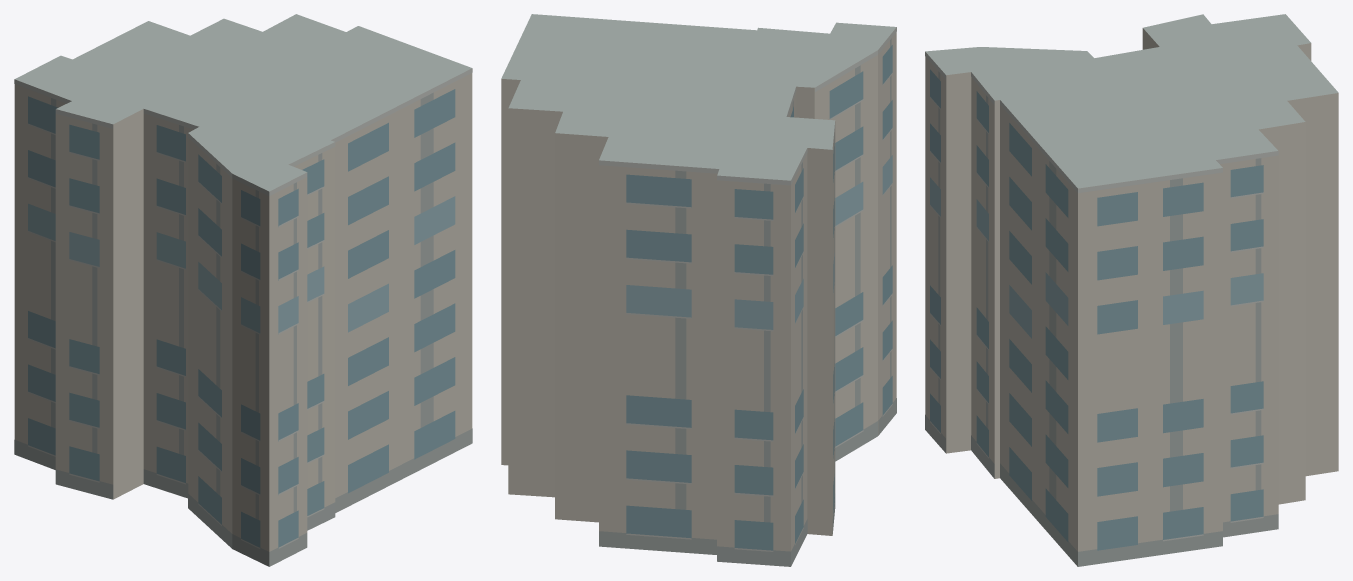
The model's file is survey-upis-32641188.glb.
The picture shows the model from 3 angles, left to right: view 1: azimuth 30°, elevation 25°; view 2: azimuth 150°, elevation 25°; view 3: azimuth 270°, elevation 25°; orthographic projection. The views are drawn at different scales.
Visible parts, largest first — view 1: survey-upis-32641188.tmp; view 2: survey-upis-32641188.tmp; view 3: survey-upis-32641188.tmp.
Boxes of the visible parts, left/top/right/bottom form: survey-upis-32641188.tmp: left=14, top=14, right=472, bottom=566; survey-upis-32641188.tmp: left=501, top=14, right=896, bottom=566; survey-upis-32641188.tmp: left=925, top=14, right=1338, bottom=566.
Bounding box in the file's own units: 19.5 × 19.7 × 19.53.
